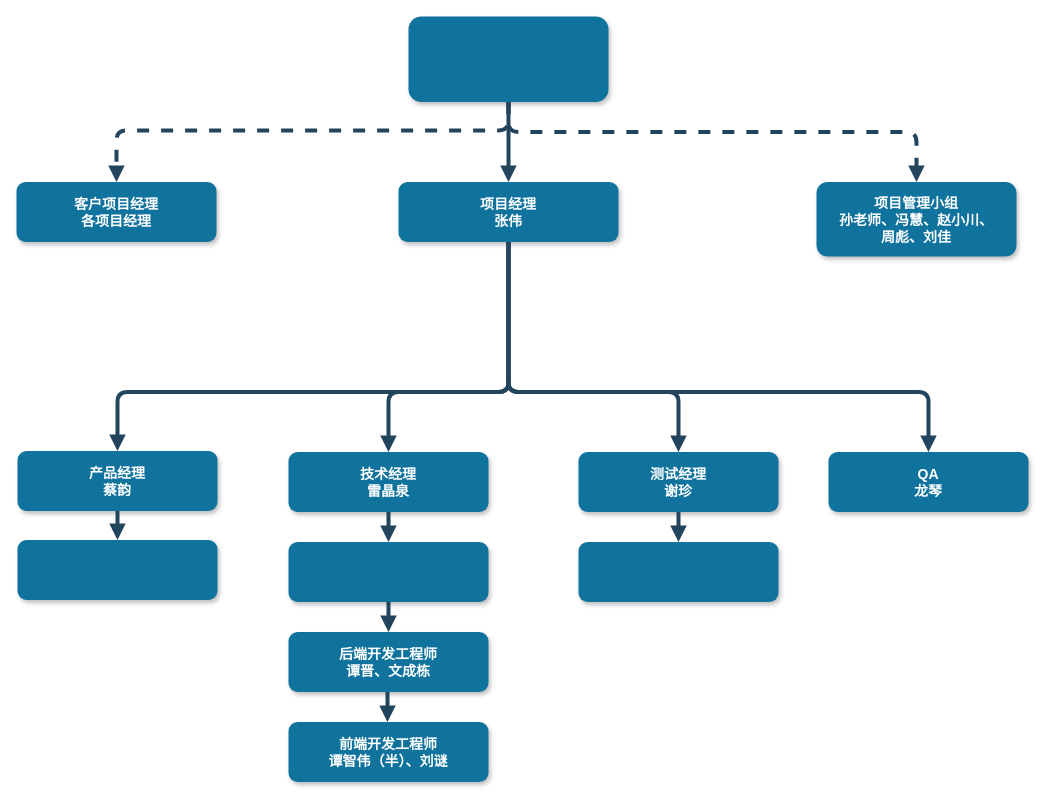
Some shapes in this 1045 by 798 pixel diagram are drawn without their labels. The centre of each missing label's shape, as x and y in pixels:
"架构师" goes at [389,573].
"测试工程师 李马烈" goes at [679,573].
"需求分析师" goes at [118,571].
"项目领导小组 白总，曾锐总" goes at [509,60].
